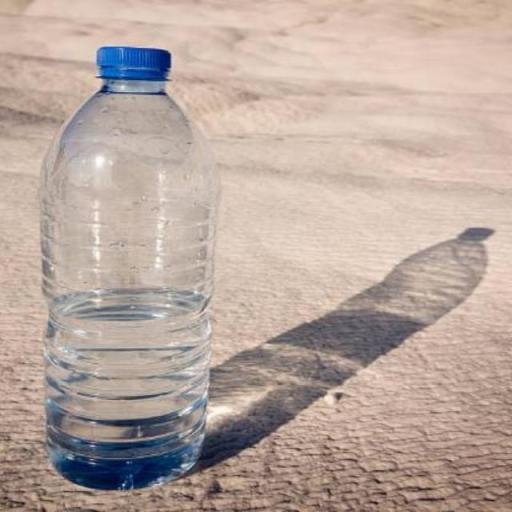Coca: (28, 37, 225, 496)
